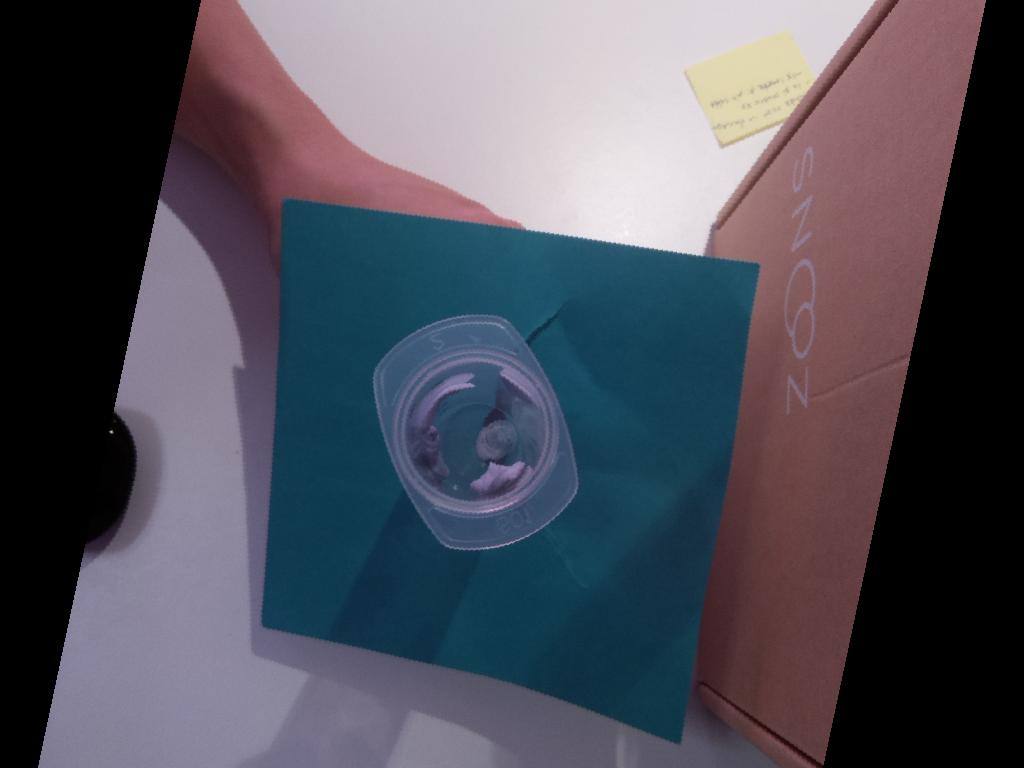dirty: (372, 314, 580, 553)
